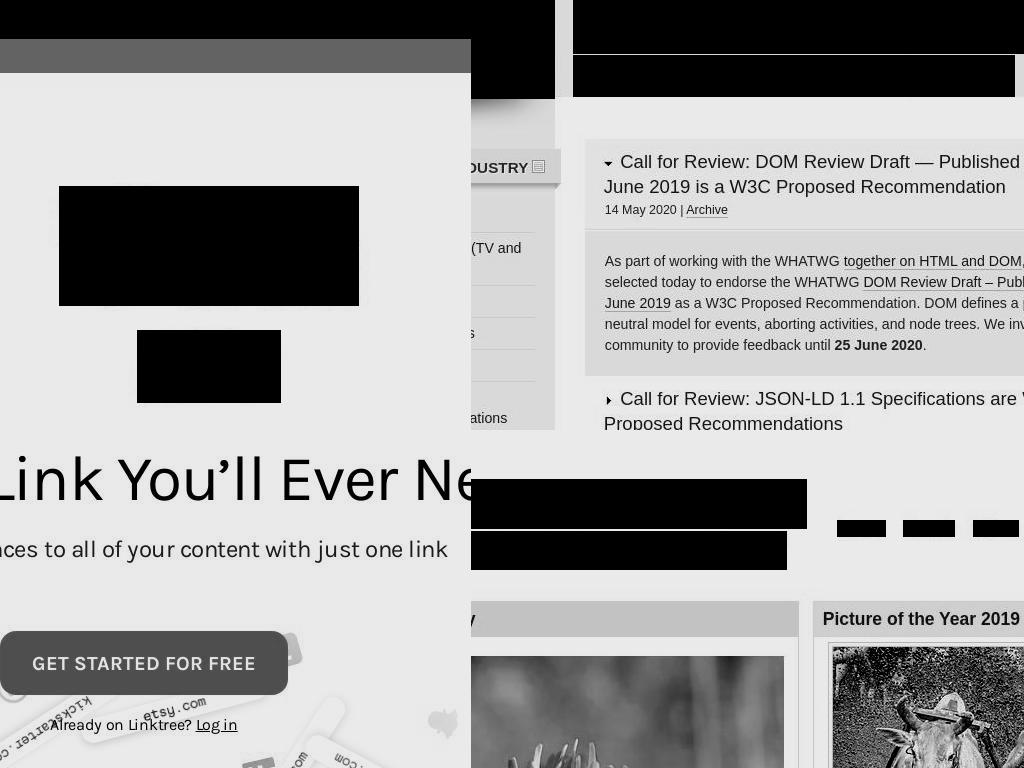button: (603, 151, 1024, 200), (0, 631, 288, 696), (603, 388, 1024, 430), (604, 274, 1024, 313), (792, 55, 910, 97), (681, 55, 793, 97), (573, 55, 682, 97), (909, 55, 1015, 97), (471, 233, 535, 285), (843, 253, 1022, 271), (471, 382, 535, 430), (471, 201, 535, 232), (471, 286, 535, 317), (471, 318, 535, 349), (471, 350, 535, 381), (686, 203, 729, 219)
heading: (603, 151, 1024, 198), (471, 149, 1024, 182), (603, 388, 1024, 430), (604, 159, 1024, 193), (471, 0, 555, 99), (471, 159, 532, 176), (532, 160, 546, 173), (603, 158, 613, 168), (603, 395, 613, 405)
image: (0, 526, 471, 768), (59, 186, 359, 306), (832, 646, 1024, 768), (75, 574, 292, 623), (250, 626, 467, 675), (37, 694, 254, 743), (285, 574, 471, 623), (0, 511, 142, 560), (137, 330, 209, 403), (209, 330, 281, 403), (471, 97, 555, 129), (319, 618, 352, 651), (357, 645, 390, 678), (295, 565, 328, 598), (60, 745, 93, 768)
link: (471, 531, 787, 570), (257, 19, 339, 39), (504, 531, 584, 548), (903, 520, 955, 537), (837, 520, 886, 537), (973, 520, 1019, 537), (471, 531, 501, 548)
text: (0, 443, 471, 516), (0, 515, 471, 568), (604, 295, 1024, 354), (573, 0, 1024, 54), (0, 0, 471, 39), (471, 479, 807, 529), (604, 253, 1024, 291), (471, 601, 798, 637), (814, 601, 1024, 637), (32, 651, 256, 675), (604, 253, 844, 270), (50, 715, 197, 735), (584, 531, 715, 548), (834, 337, 923, 354), (604, 203, 680, 218), (195, 715, 238, 735), (680, 203, 687, 218), (922, 337, 927, 354)
